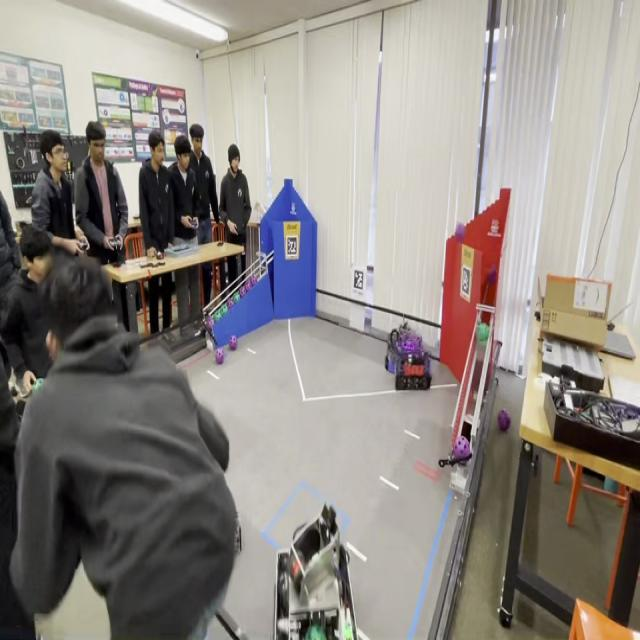artifact_green: (305, 625, 326, 639), (477, 323, 489, 342), (205, 317, 214, 333), (33, 379, 43, 391), (233, 292, 241, 303), (220, 305, 228, 316), (245, 279, 252, 291), (214, 311, 221, 322), (240, 286, 246, 297), (213, 312, 218, 322)
artifact_purple: (453, 437, 469, 459), (498, 409, 510, 432), (454, 222, 465, 242), (487, 266, 497, 285), (216, 349, 224, 365), (229, 336, 237, 350), (206, 317, 213, 331), (220, 304, 227, 316), (227, 299, 234, 310), (240, 286, 246, 297), (245, 280, 251, 291), (250, 277, 257, 286)
